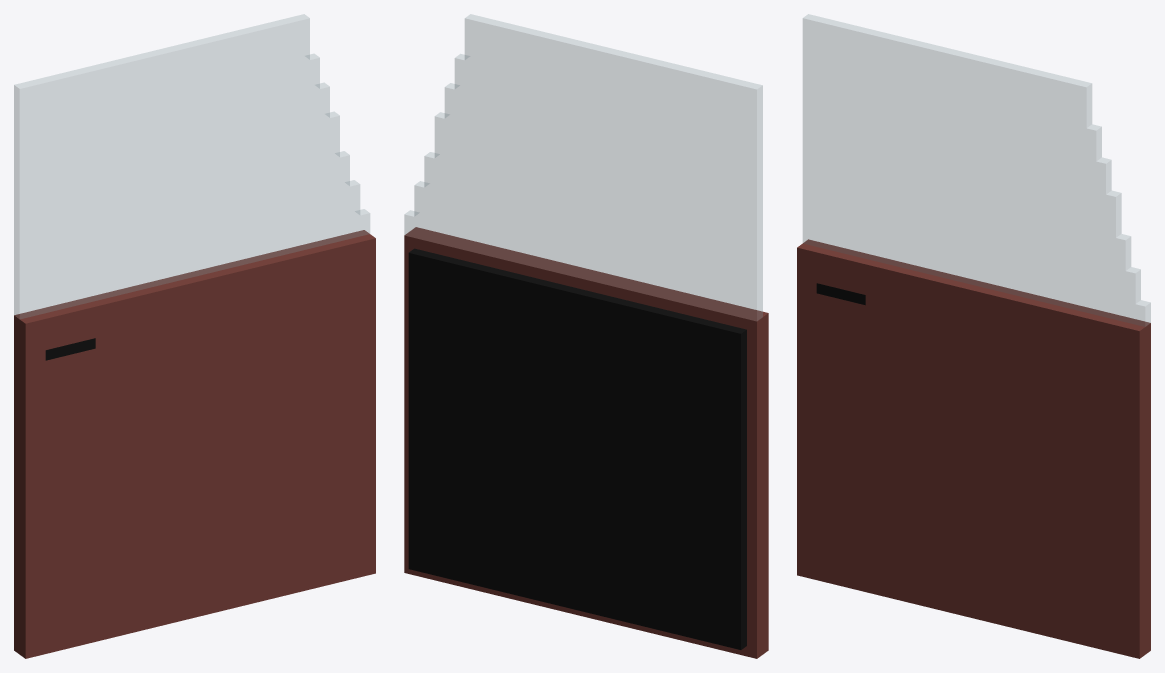
Rendered from semi_tractor_door.glb.
The picture shows the model from 3 angles, left to right: view 1: azimuth 30°, elevation 25°; view 2: azimuth 150°, elevation 25°; view 3: azimuth 330°, elevation 25°; orthographic projection. The views are drawn at different scales.
Visible parts, largest first — view 1: body:compound; view 2: body:compound; view 3: body:compound.
Boxes of the visible parts, box(x1,y1,x2,y2) form: body:compound: box(14, 14, 375, 658); body:compound: box(404, 14, 768, 658); body:compound: box(797, 14, 1150, 658).
Size of the model in its own units: 1.09 by 1.69 by 0.0938.
